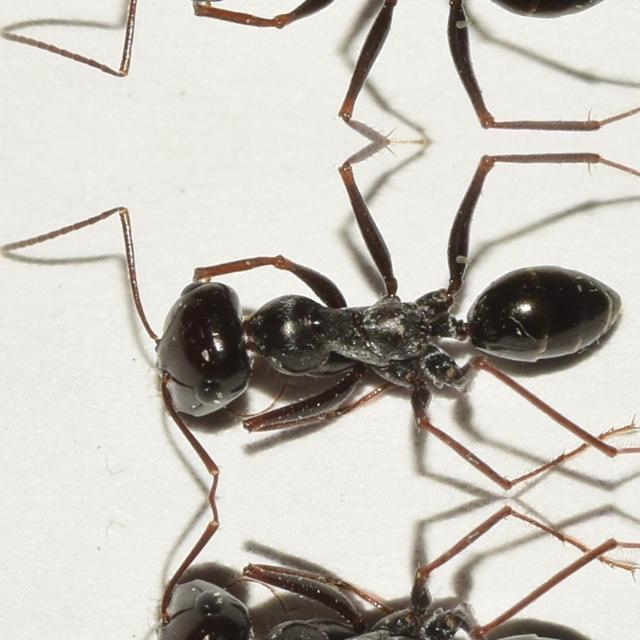Cataglyphis: (70, 206, 640, 472), (70, 522, 638, 640), (70, 0, 638, 76)
